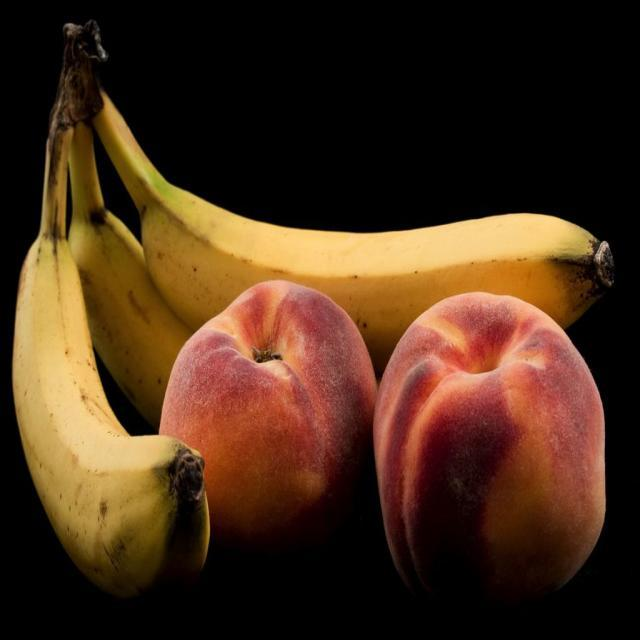Peach: (370, 289, 604, 621), (158, 280, 377, 544)
